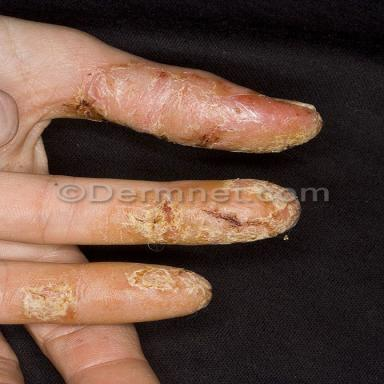eczema: (57, 59, 318, 154), (114, 201, 300, 246), (121, 266, 213, 301), (15, 275, 75, 325)
